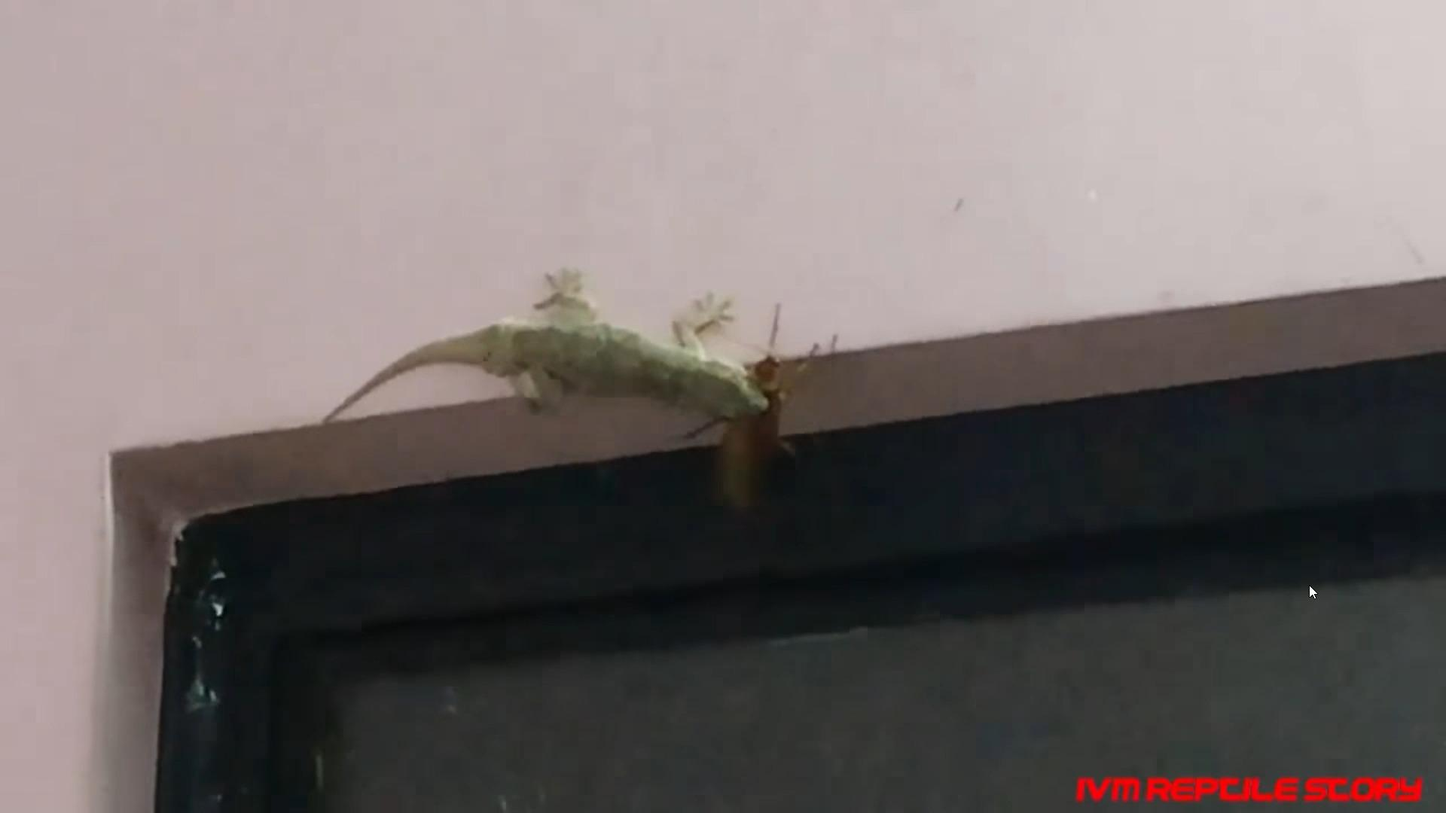cockroach: (721, 352, 787, 506)
lizard: (312, 264, 762, 442)
